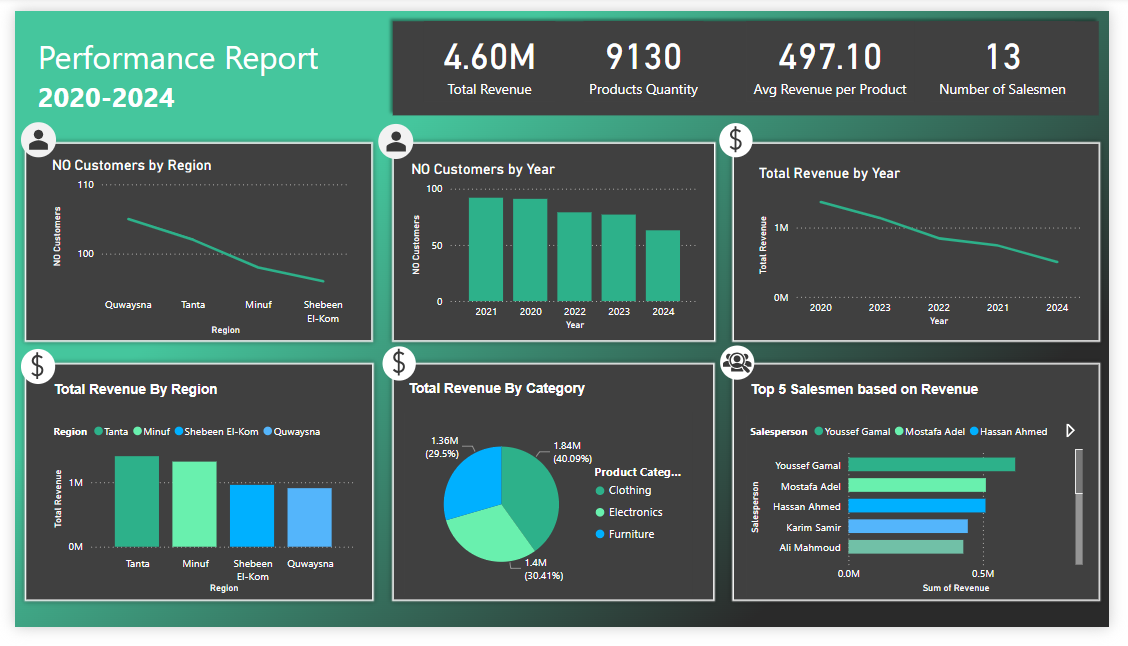

This screenshot's page, from the dashboard's own definition file:
{"tool":"powerbi","page":{"name":"Page 1","canvas":[1280,720],"ordinal":0},"visuals":[{"type":"card","fields":{"Values":["Data.Revenue"]},"box":[478.3,11.7,153.3,95],"z":7000},{"type":"textbox","box":[21.7,23.3,383.3,105],"z":8000},{"type":"card","fields":{"Values":["Data.Quantity"]},"box":[665,11.7,140,95],"z":9000},{"type":"card","fields":{"Values":["Data.Price"]},"box":[855,11.7,196.7,95],"z":10000},{"type":"card","fields":{"Values":["Data.Salesperson"]},"box":[1070,11.7,170,95],"z":11000},{"type":"lineChart","fields":{"Y":["Data.Revenue"],"Category":["Data.Year"]},"box":[865.7,180.5,386.7,193.3],"z":12000},{"type":"columnChart","fields":{"Category":["Data.Region"],"Y":["Data.Revenue"],"Series":["Data.Region"]},"box":[39.3,471.7,364.6,213.8],"z":13000},{"type":"pieChart","fields":{"Y":["Data.Revenue"],"Series":["Data.Product Category"]},"box":[454.2,469.4,336.9,213.8],"z":14000},{"type":"barChart","fields":{"Category":["Data.Salesperson"],"Y":["Data.Revenue"],"Series":["Data.Salesperson"]},"box":[854.5,471.7,398.5,213.8],"z":15000},{"type":"textbox","box":[39.3,428.7,300,35.4],"z":16000},{"type":"textbox","box":[454.2,426.3,249.2,35.4],"z":17000},{"type":"textbox","box":[854.5,428.7,300,35.4],"z":18000},{"type":"lineClusteredColumnComboChart","fields":{"Y":["Data.Customer Name"],"Category":["Data.Year"]},"box":[459,175.5,346.7,203.3],"z":19000},{"type":"lineChart","fields":{"Category":["Data.Region"],"Y":["Data.Customer Name"]},"box":[39,170.5,361.7,213.3],"z":21000}]}

Visuals, with their boxes in screenshot pixels (x1, y1, x2, y2), scaled from the page's 1280x720 canvas onto the 1128x646 screenshot:
card - Data.Revenue: (left=422, top=10, right=557, bottom=96)
textbox: (left=19, top=21, right=357, bottom=115)
card - Data.Quantity: (left=586, top=10, right=709, bottom=96)
card - Data.Price: (left=753, top=10, right=927, bottom=96)
card - Data.Salesperson: (left=943, top=10, right=1093, bottom=96)
lineChart - Data.Revenue x Data.Year: (left=763, top=162, right=1104, bottom=335)
columnChart - Data.Region x Data.Revenue: (left=35, top=423, right=356, bottom=615)
pieChart - Data.Revenue x Data.Product Category: (left=400, top=421, right=697, bottom=613)
barChart - Data.Salesperson x Data.Revenue: (left=753, top=423, right=1104, bottom=615)
textbox: (left=35, top=385, right=299, bottom=416)
textbox: (left=400, top=382, right=620, bottom=414)
textbox: (left=753, top=385, right=1017, bottom=416)
lineClusteredColumnComboChart - Data.Customer Name x Data.Year: (left=404, top=157, right=710, bottom=340)
lineChart - Data.Region x Data.Customer Name: (left=34, top=153, right=353, bottom=344)
